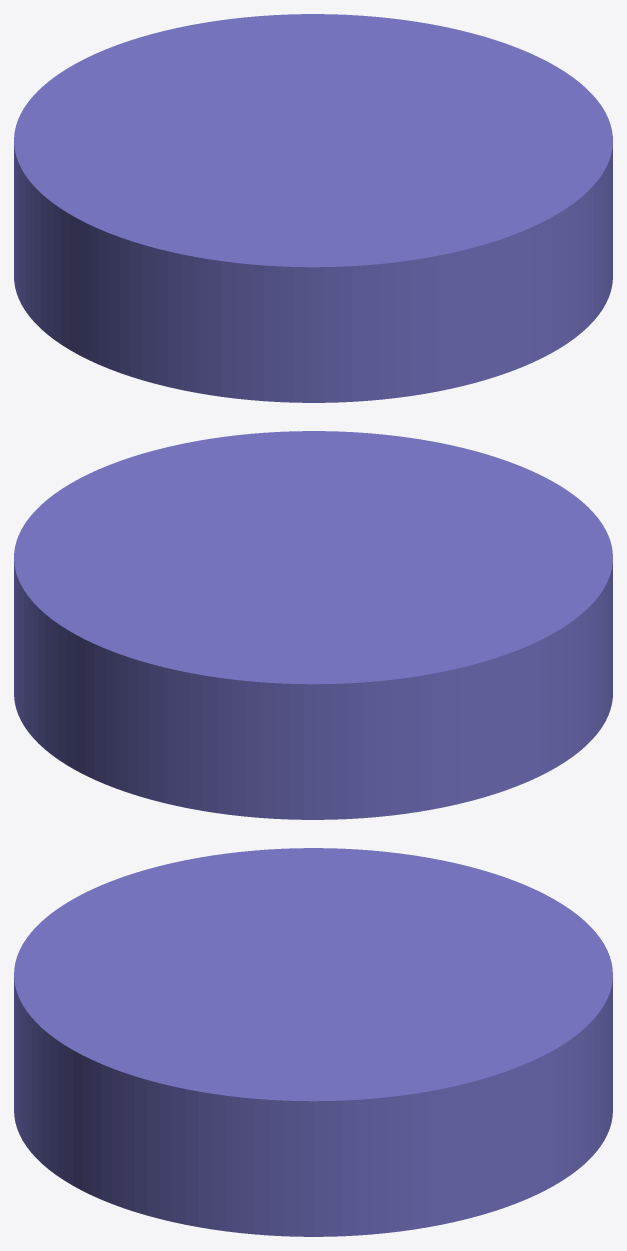
3 views of the same model, one above another, from view 1: azimuth 30°, elevation 25°; view 2: azimuth 150°, elevation 25°; view 3: azimuth 270°, elevation 25° (orthographic).
Parts seen in each view (by area): view 1: Link0__Base_; view 2: Link0__Base_; view 3: Link0__Base_.
Boxes of the visible parts, box(x1,y1,x2,y2) form: Link0__Base_: box(14, 14, 612, 402); Link0__Base_: box(14, 431, 612, 819); Link0__Base_: box(14, 848, 612, 1236).
Size of the model in its own units: 0.4626 by 0.4626 by 0.1157.
